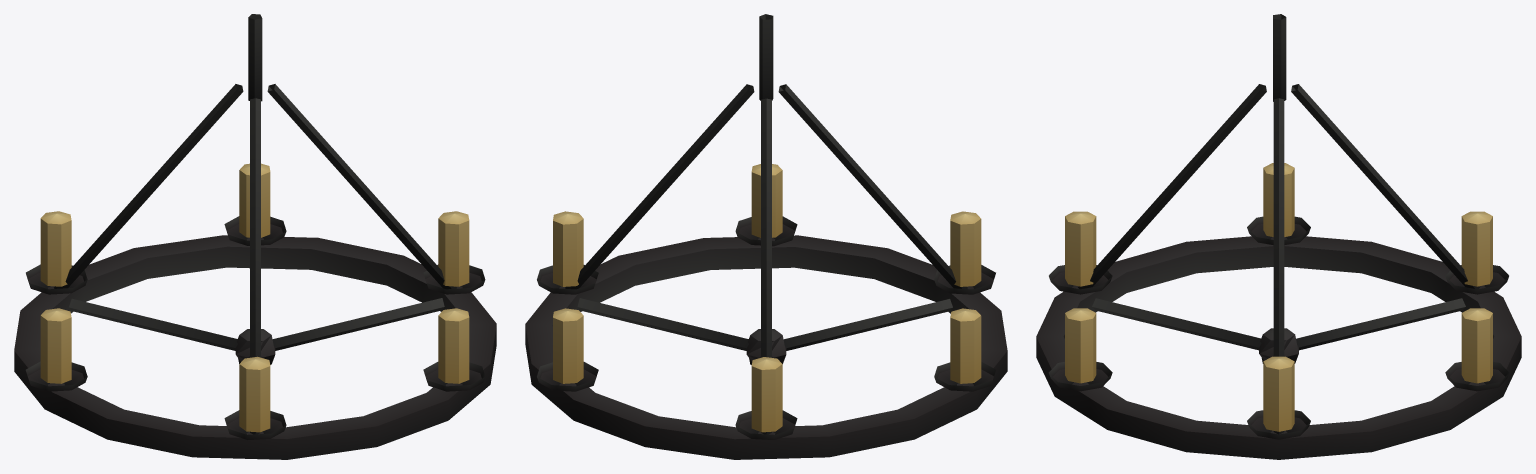
The model's file is chandelier.glb.
3 renders of one model, left to right at view 1: azimuth 30°, elevation 25°; view 2: azimuth 150°, elevation 25°; view 3: azimuth 270°, elevation 25°, orthographic.
Visible parts, largest first — view 1: chandelier; view 2: chandelier; view 3: chandelier.
Part boxes in pixels (x1,y1,x2,y2): chandelier: (14,14,496,459); chandelier: (525,14,1007,459); chandelier: (1036,14,1521,459).
Bounding box in the file's own units: 1.14 × 0.85 × 1.06.
